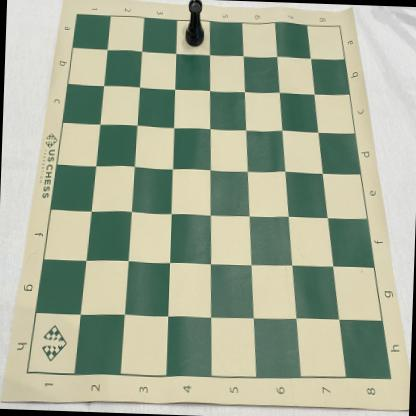rook: (185, 0, 207, 48)
